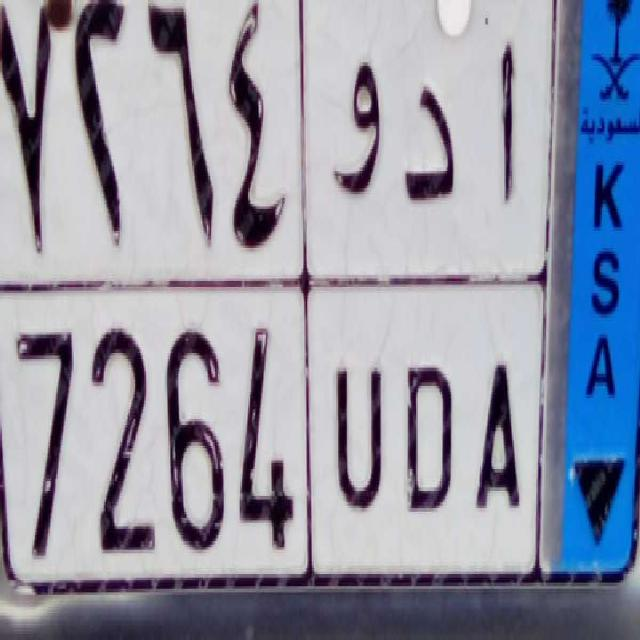license_plate: (0, 268, 541, 588)
